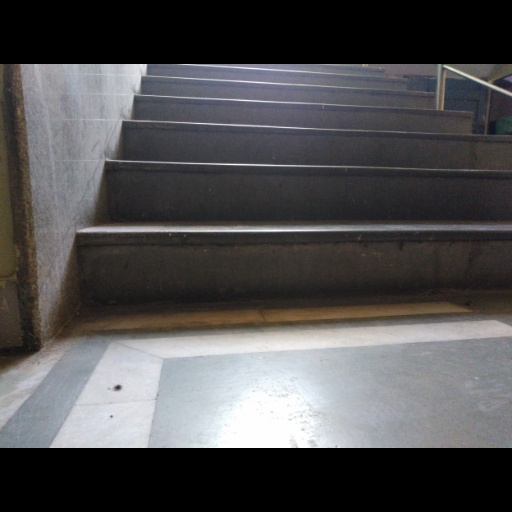Stairs: (77, 66, 512, 301)
